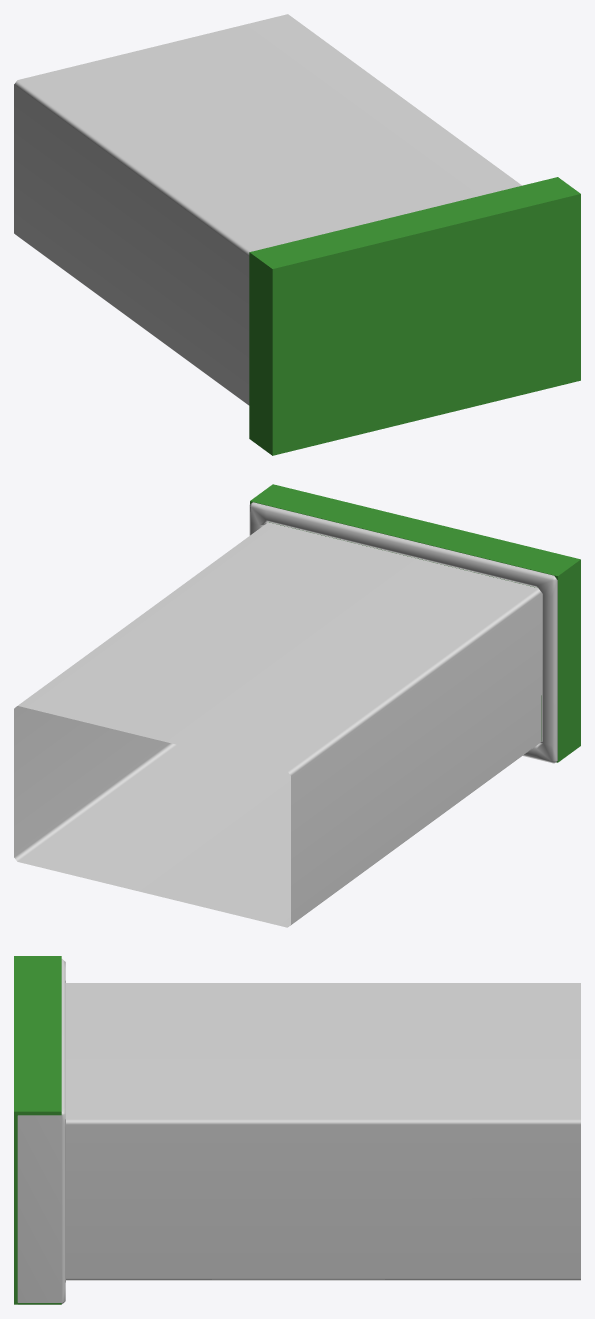
Rendered from DuctCap_01_Mesh.fbx.
3 renders of one model, top to bottom at view 1: azimuth 30°, elevation 25°; view 2: azimuth 150°, elevation 25°; view 3: azimuth 270°, elevation 25°, orthographic. The views are drawn at different scales.
Visible parts, largest first — view 1: Duct_DuctCap_01_LOD0, DuctCap_01_Col; view 2: Duct_DuctCap_01_LOD0, DuctCap_01_Col; view 3: Duct_DuctCap_01_LOD0, DuctCap_01_Col.
Part boxes in pixels (x1,y1,x2,y2): Duct_DuctCap_01_LOD0: (14,14,521,405); DuctCap_01_Col: (249,177,580,455); Duct_DuctCap_01_LOD0: (14,502,557,927); DuctCap_01_Col: (250,484,580,762); Duct_DuctCap_01_LOD0: (17,959,580,1304); DuctCap_01_Col: (14,956,61,1304).
Size of what is drawn, in the model's own units: 71.37 by 41.66 by 110.
